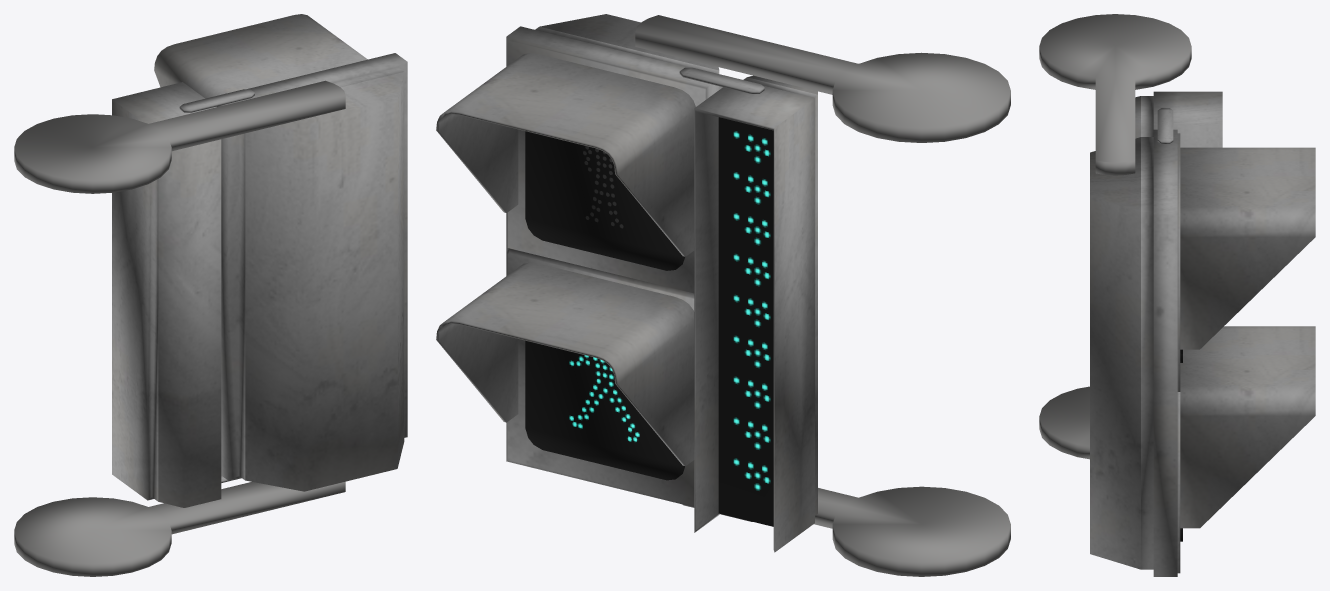
The model's file is TrafficLight_Pedestrian_Bar.fbx.
The picture shows the model from 3 angles, left to right: view 1: azimuth 30°, elevation 25°; view 2: azimuth 150°, elevation 25°; view 3: azimuth 270°, elevation 25°; orthographic projection. The views are drawn at different scales.
Parts seen in each view (by area): view 1: TL_Pedestrian_Bar_Housing; view 2: TL_Pedestrian_Bar_Housing, Bar_Ped_Green, Bar_Ped_Red, Bar_Timer_Bar_01, Bar_Timer_Bar_06, Bar_Timer_Bar_03, Bar_Timer_Bar_09, Bar_Timer_Bar_08, Bar_Timer_Bar_02, Bar_Timer_Bar_05, Bar_Timer_Bar_04, Bar_Timer_Bar_07; view 3: TL_Pedestrian_Bar_Housing.
Part boxes in pixels (x1,y1,x2,y2): TL_Pedestrian_Bar_Housing: (14, 14, 407, 576); TL_Pedestrian_Bar_Housing: (436, 14, 1010, 576); Bar_Ped_Green: (525, 340, 684, 480); Bar_Ped_Red: (525, 131, 684, 270); Bar_Timer_Bar_01: (718, 446, 773, 526); Bar_Timer_Bar_06: (718, 239, 773, 296); Bar_Timer_Bar_03: (718, 362, 773, 418); Bar_Timer_Bar_09: (718, 117, 773, 173); Bar_Timer_Bar_08: (718, 160, 773, 214); Bar_Timer_Bar_02: (718, 405, 773, 459); Bar_Timer_Bar_05: (718, 283, 773, 336); Bar_Timer_Bar_04: (718, 323, 773, 375); Bar_Timer_Bar_07: (718, 201, 773, 252); TL_Pedestrian_Bar_Housing: (1039, 14, 1315, 576).
Bounding box in the file's own units: 0.7978 × 0.75 × 0.4901.
Materials: 3 (3 with a texture image).
